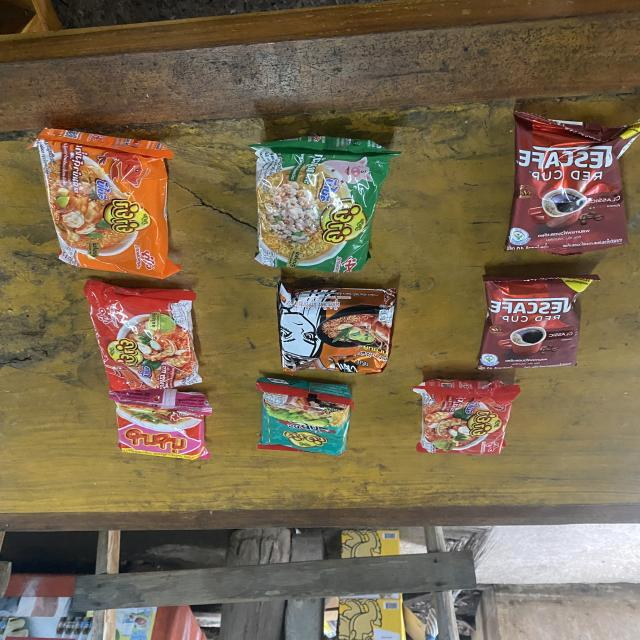plastik: (30, 129, 180, 278), (251, 136, 398, 273), (506, 111, 640, 254), (84, 281, 202, 391), (478, 275, 598, 369), (276, 283, 397, 374), (413, 379, 520, 454), (256, 378, 353, 455), (109, 389, 211, 459)
